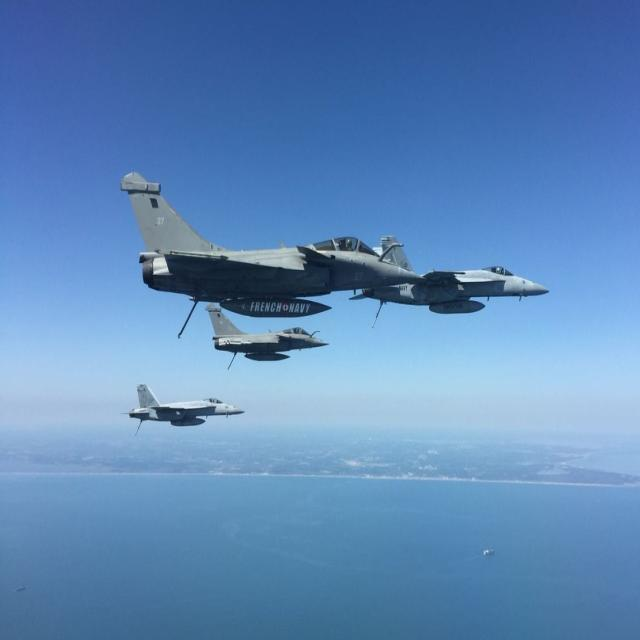MIL_Plane: (115, 170, 420, 340), (348, 235, 550, 330), (205, 297, 330, 365), (119, 382, 245, 437)
